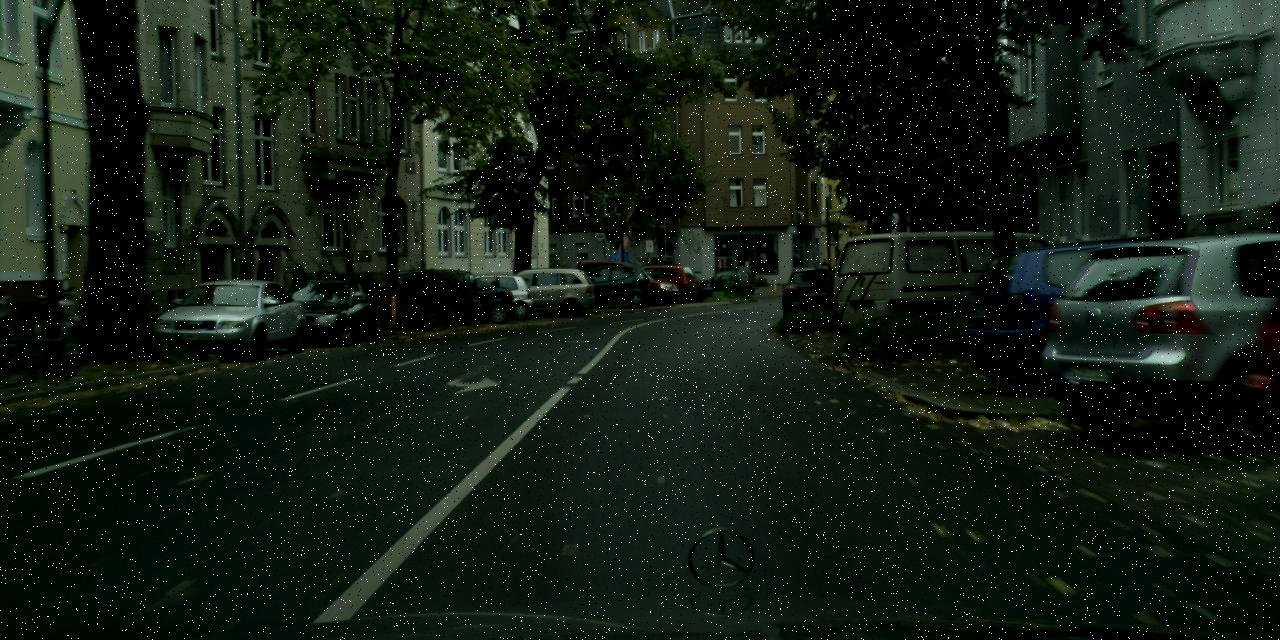ped: (289, 262, 309, 310), (314, 263, 332, 309), (820, 258, 828, 278)
